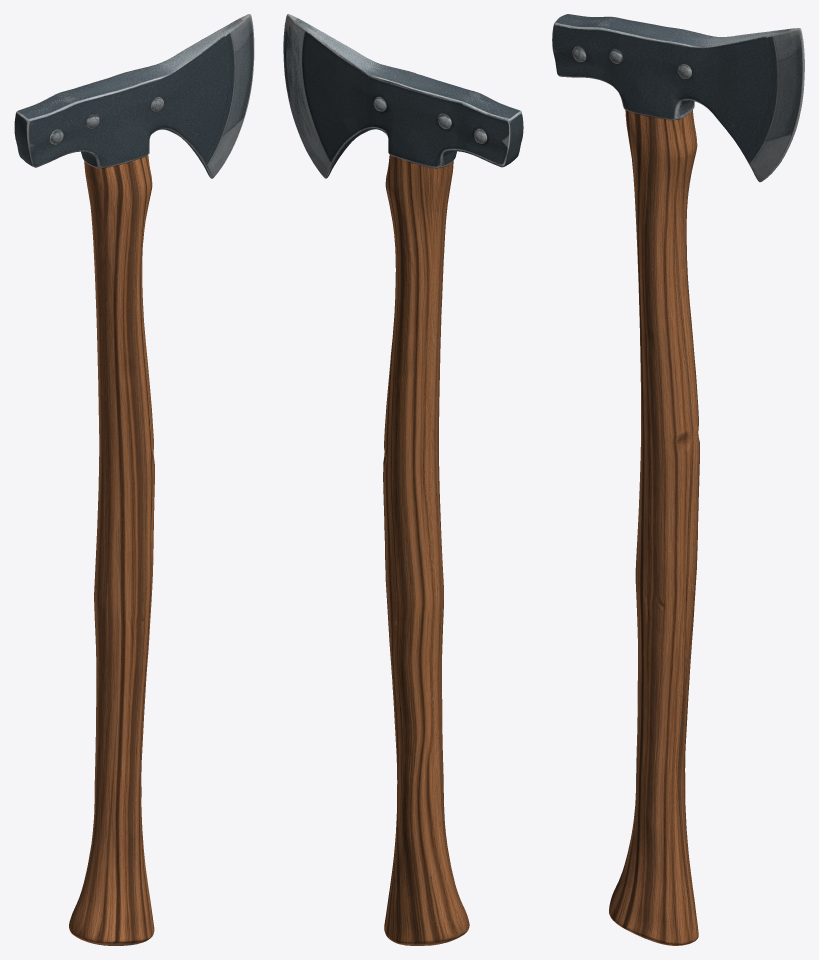
File: hatchet_real.glb
3 renders of one model, left to right at view 1: azimuth 30°, elevation 25°; view 2: azimuth 150°, elevation 25°; view 3: azimuth 330°, elevation 25°, orthographic. The views are drawn at different scales.
Visible parts, largest first — view 1: hatchet_real_0; view 2: hatchet_real_0; view 3: hatchet_real_0.
Boxes of the visible parts, box(x1,y1,x2,y2) form: hatchet_real_0: box(14, 14, 254, 945); hatchet_real_0: box(283, 14, 523, 945); hatchet_real_0: box(552, 14, 804, 945).
Bounding box in the file's own units: 0.1557 × 0.57 × 0.0388.
Materials: 1 (1 with a texture image).
